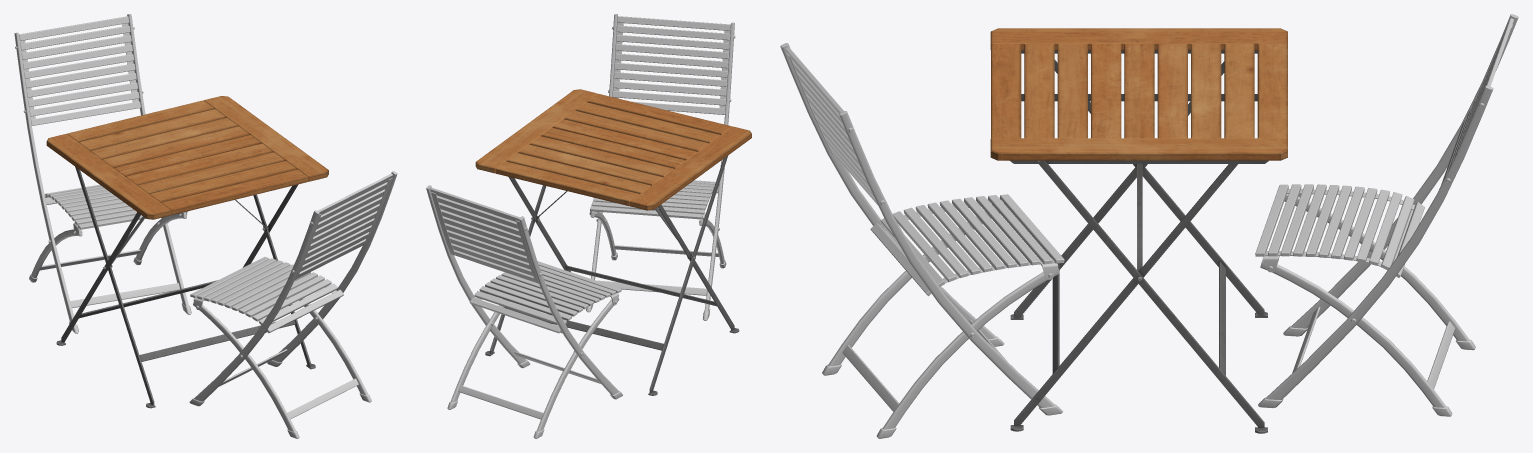
Rendered from outdoorchairs.fbx.
The picture shows the model from 3 angles, left to right: view 1: azimuth 30°, elevation 25°; view 2: azimuth 150°, elevation 25°; view 3: azimuth 270°, elevation 25°; orthographic projection. The views are drawn at different scales.
Parts seen in each view (by area): view 1: outdoor_table_chair_set_01_table, outdoor_table_chair_set_01_chair_02, outdoor_table_chair_set_01_chair_01; view 2: outdoor_table_chair_set_01_table, outdoor_table_chair_set_01_chair_02, outdoor_table_chair_set_01_chair_01; view 3: outdoor_table_chair_set_01_table, outdoor_table_chair_set_01_chair_01, outdoor_table_chair_set_01_chair_02.
Boxes of the visible parts, bbox=[...] form: outdoor_table_chair_set_01_table: bbox=[46, 96, 328, 408]; outdoor_table_chair_set_01_chair_02: bbox=[14, 14, 191, 333]; outdoor_table_chair_set_01_chair_01: bbox=[189, 171, 397, 438]; outdoor_table_chair_set_01_table: bbox=[475, 89, 751, 395]; outdoor_table_chair_set_01_chair_02: bbox=[426, 185, 622, 438]; outdoor_table_chair_set_01_chair_01: bbox=[586, 14, 735, 320]; outdoor_table_chair_set_01_table: bbox=[990, 28, 1287, 433]; outdoor_table_chair_set_01_chair_01: bbox=[780, 43, 1064, 438]; outdoor_table_chair_set_01_chair_02: bbox=[1255, 14, 1518, 416].
Size of the model in its own units: 74.17 by 85.86 by 172.
